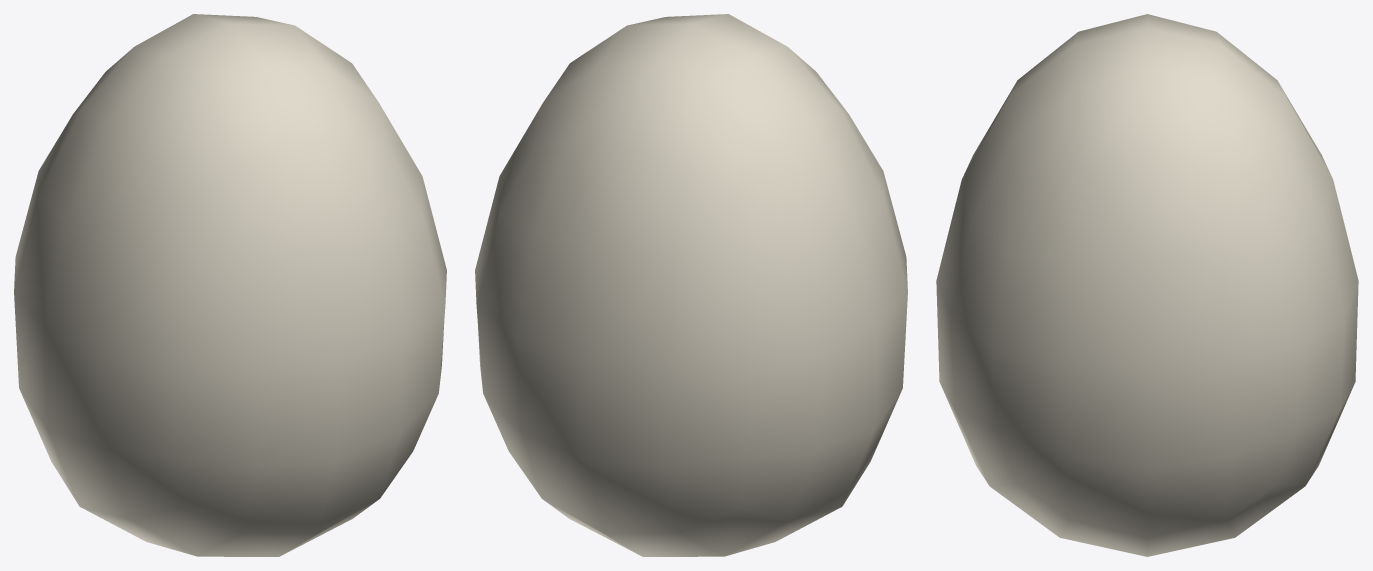
3 views of the same model, side by side, from view 1: azimuth 30°, elevation 25°; view 2: azimuth 150°, elevation 25°; view 3: azimuth 270°, elevation 25° (orthographic).
Visible parts, largest first — view 1: big_egg; view 2: big_egg; view 3: big_egg.
Part boxes in pixels (x1,y1,x2,y2): big_egg: (14,14,446,556); big_egg: (475,14,907,556); big_egg: (936,14,1358,556).
Bounding box in the file's own units: 0.3728 × 0.4927 × 0.3728.
